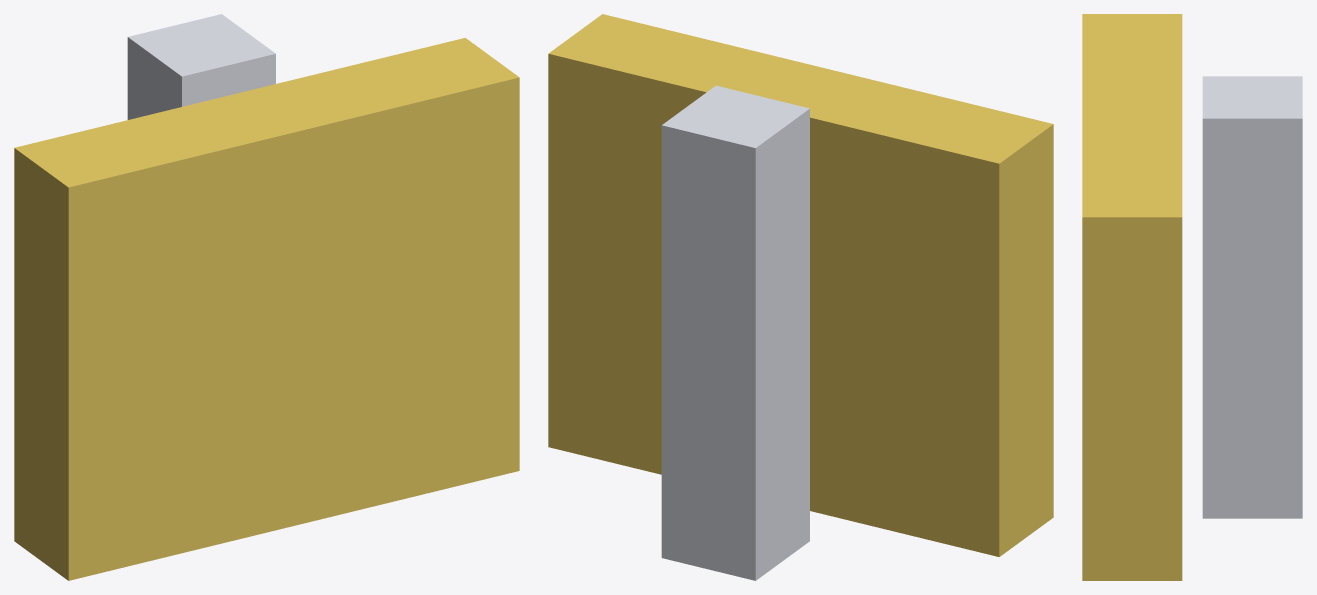
Rendered from armor.glb.
The picture shows the model from 3 angles, left to right: view 1: azimuth 30°, elevation 25°; view 2: azimuth 150°, elevation 25°; view 3: azimuth 270°, elevation 25°; orthographic projection. The views are drawn at different scales.
Visible parts, largest first — view 1: Cube, Cube.001; view 2: Cube, Cube.001; view 3: Cube, Cube.001.
Part boxes in pixels (x1,y1,x2,y2): Cube: (14, 38, 519, 580); Cube.001: (127, 14, 275, 119); Cube: (548, 14, 1053, 556); Cube.001: (661, 85, 809, 580); Cube: (1082, 14, 1182, 580); Cube.001: (1202, 76, 1302, 518).
Size of the model in its own units: 0.24 by 0.22 by 0.11.
